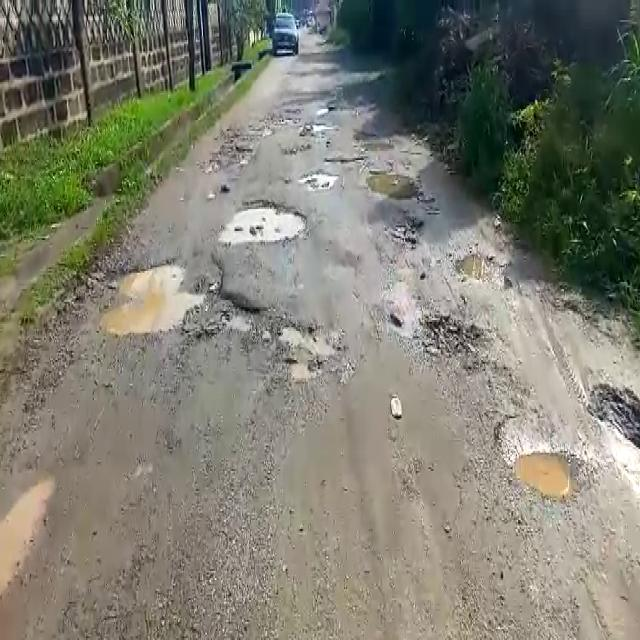Pothole: (97, 259, 241, 339), (0, 475, 57, 597), (503, 444, 588, 504), (278, 316, 346, 388), (220, 198, 309, 249), (586, 378, 640, 461), (422, 311, 498, 366), (364, 169, 427, 205), (454, 249, 513, 287), (300, 171, 340, 190), (304, 119, 334, 132)
